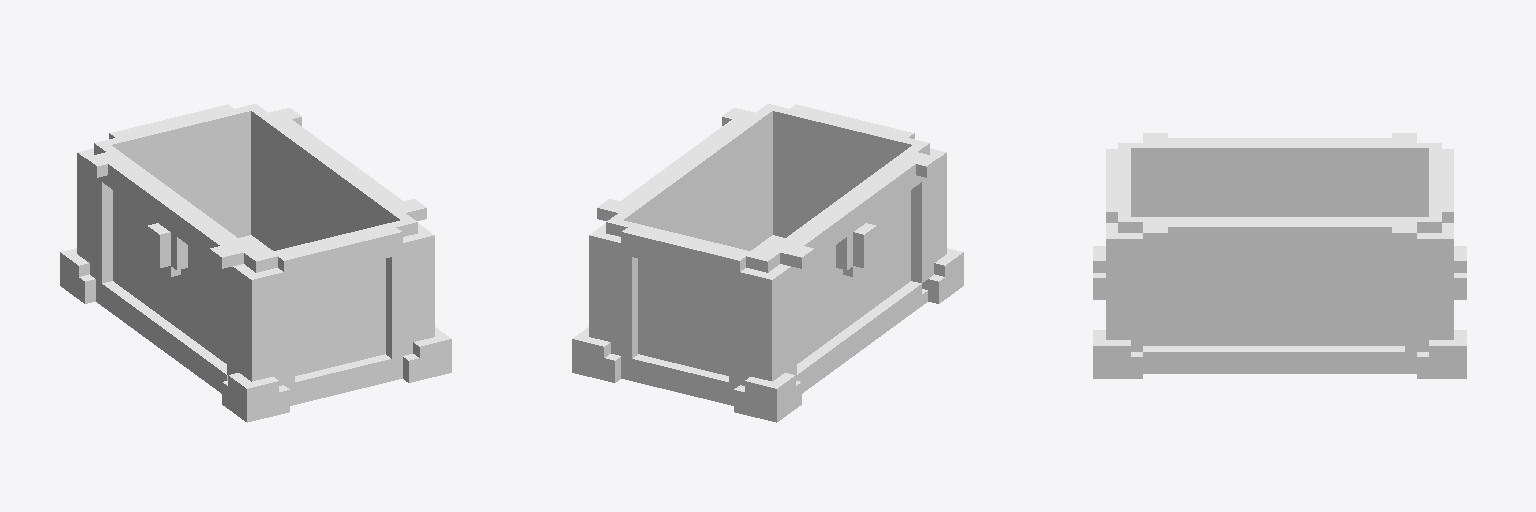
File: vox-60-Chest_Empty.obj
3 renders of one model, left to right at view 1: azimuth 30°, elevation 25°; view 2: azimuth 150°, elevation 25°; view 3: azimuth 270°, elevation 25°, orthographic.
Visible parts, largest first — view 1: Chest_Empty; view 2: Chest_Empty; view 3: Chest_Empty.
Boxes of the visible parts, x1=… form: Chest_Empty: x1=60, y1=104, x2=451, y2=422; Chest_Empty: x1=572, y1=104, x2=963, y2=422; Chest_Empty: x1=1093, y1=133, x2=1466, y2=378.
Size of the model in its own units: 1.9 by 1.3 by 3.